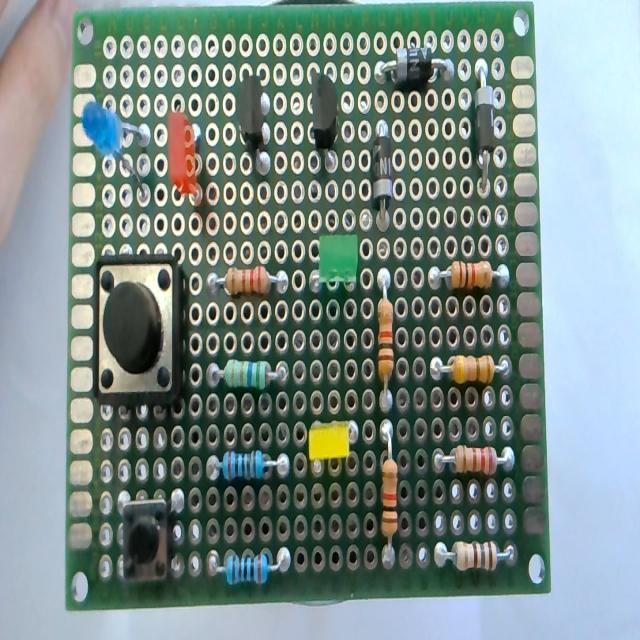diode: (359, 106, 399, 236), (461, 65, 501, 191), (371, 42, 453, 98)
led: (80, 88, 157, 228), (303, 400, 361, 479), (304, 234, 364, 310), (168, 98, 202, 228)
resistor: (433, 244, 511, 306), (214, 537, 292, 597), (208, 441, 292, 494), (424, 344, 508, 396), (373, 269, 403, 412), (437, 522, 511, 578), (438, 431, 512, 486), (203, 351, 287, 399), (375, 421, 401, 567), (206, 262, 286, 302)
switch: (87, 248, 189, 414), (110, 491, 172, 607)
transistor: (236, 66, 274, 190), (309, 66, 345, 173)
